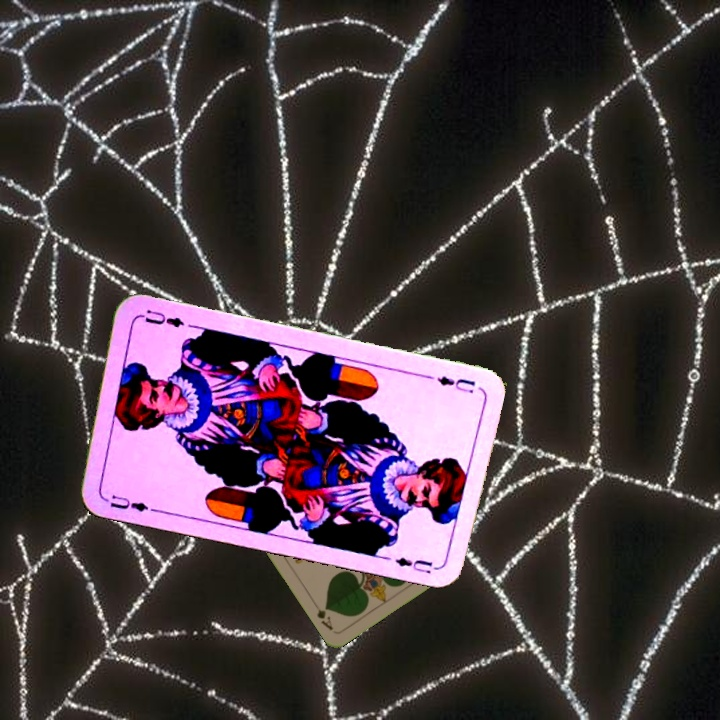EU: (99, 491, 151, 515), (433, 371, 478, 396)
